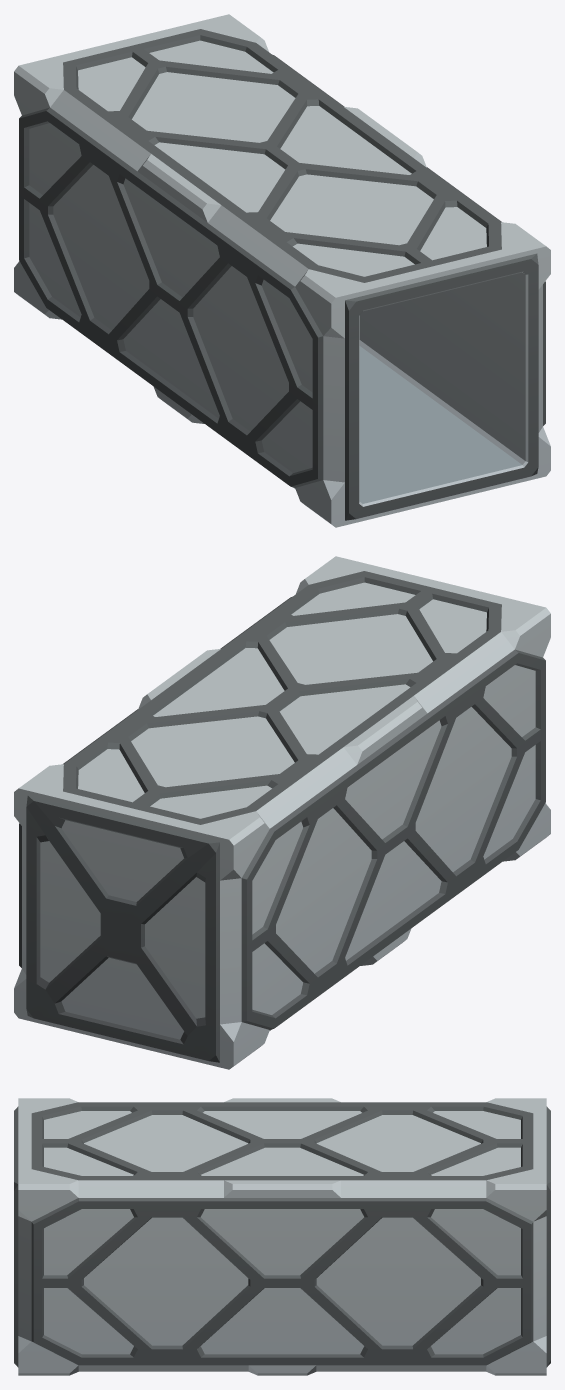
Rendered from Container_type_A_003.fbx.
The picture shows the model from 3 angles, top to bottom: view 1: azimuth 30°, elevation 25°; view 2: azimuth 150°, elevation 25°; view 3: azimuth 270°, elevation 25°; orthographic projection. The views are drawn at different scales.
Visible parts, largest first — view 1: Container_type_A_003; view 2: Container_type_A_003; view 3: Container_type_A_003.
Boxes of the visible parts, x1,y1,x2,y2 form: Container_type_A_003: [14, 14, 550, 527]; Container_type_A_003: [14, 556, 550, 1069]; Container_type_A_003: [14, 1098, 550, 1375].
Size of the model in its own units: 249 by 610 by 240.
